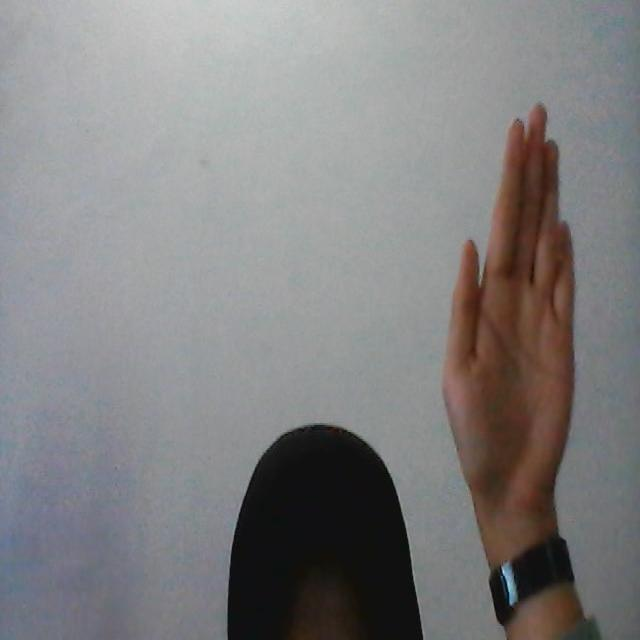hand: (444, 103, 580, 548)
